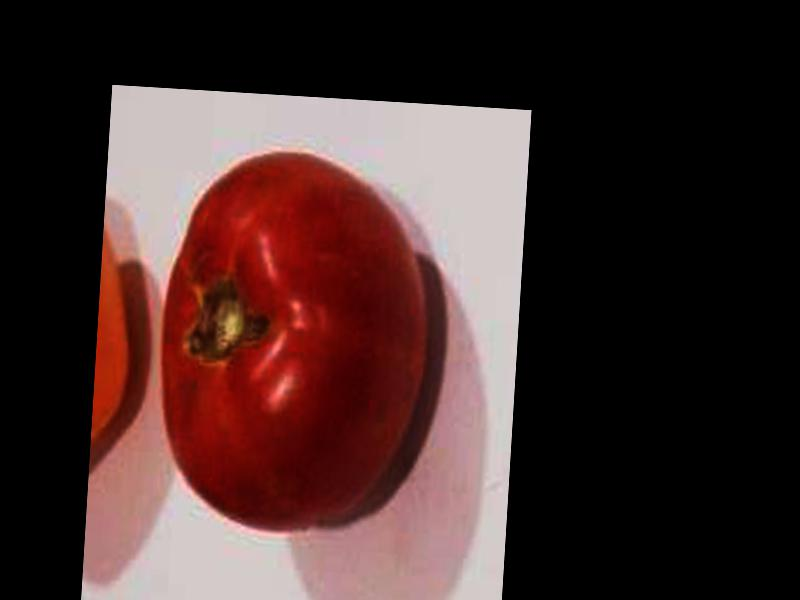Tomato: (153, 145, 433, 535)
